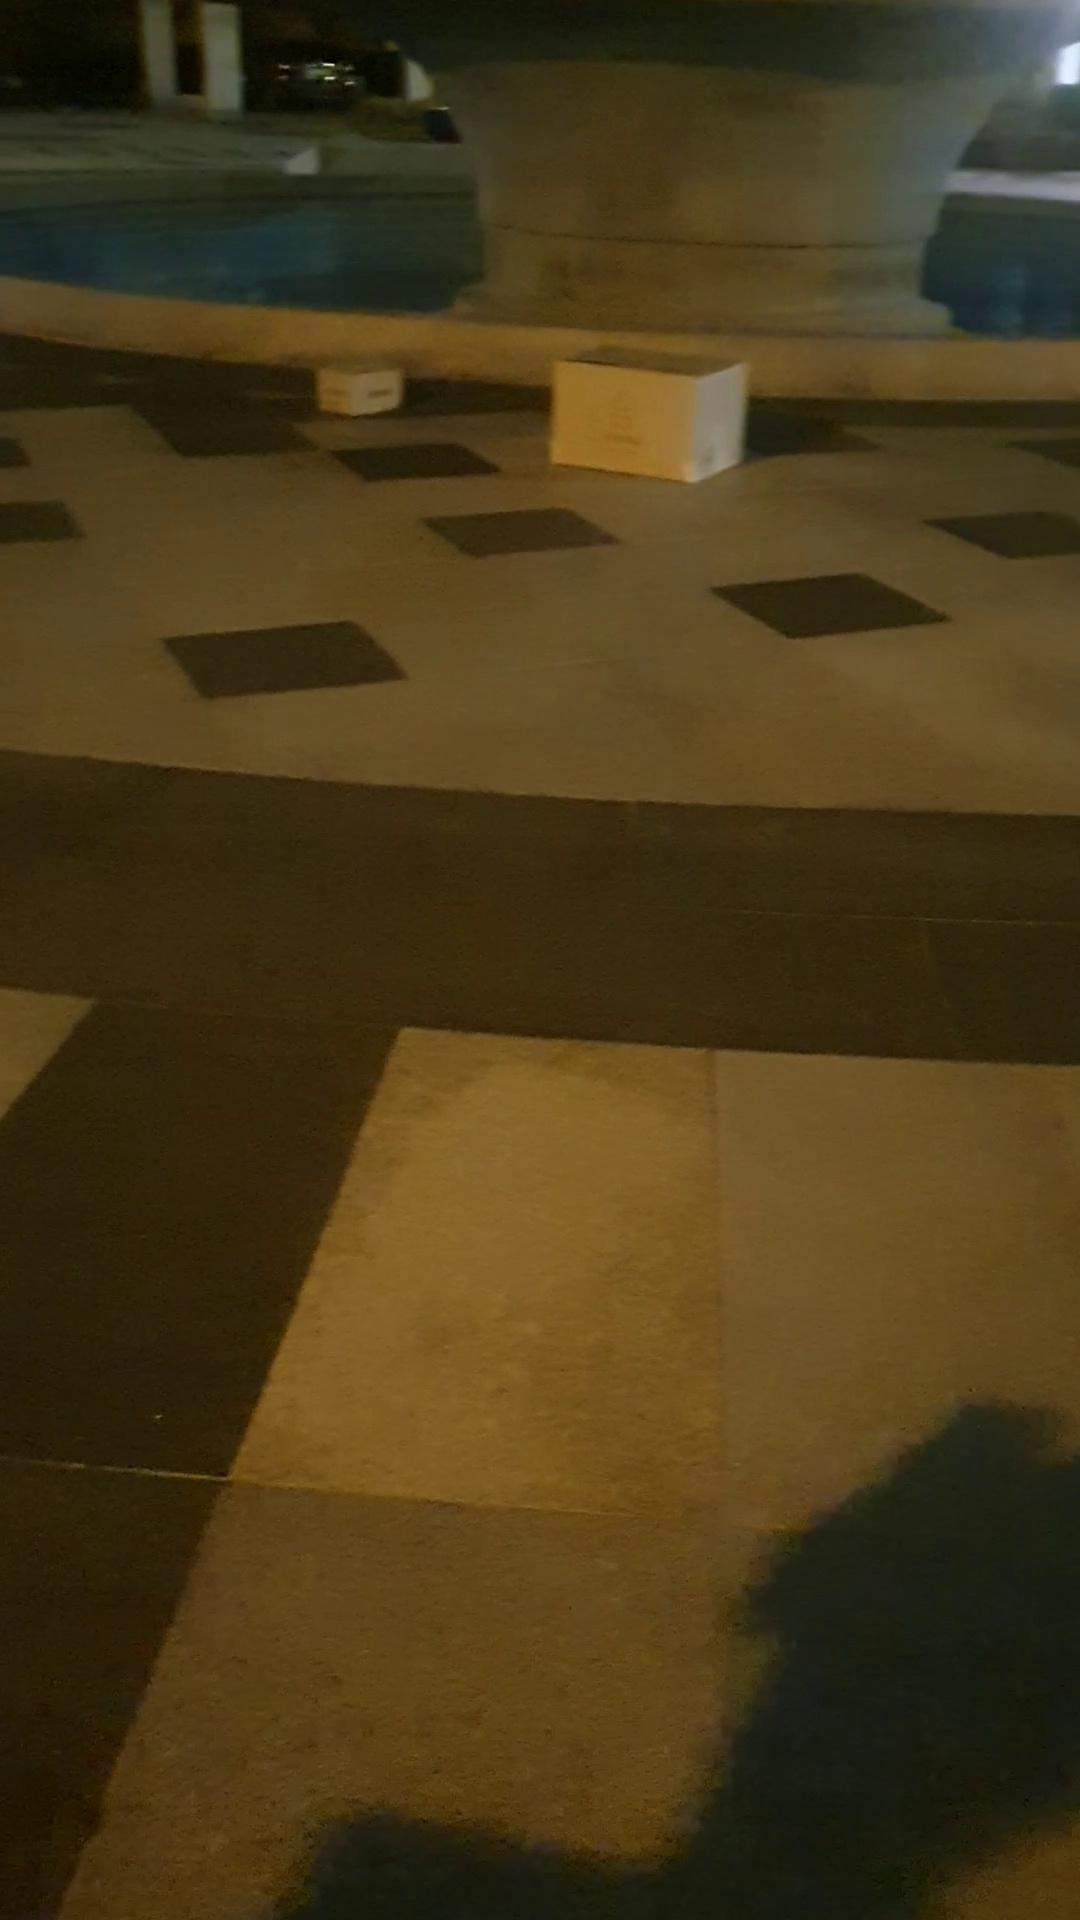Box: (521, 309, 770, 505), (272, 330, 419, 442)
